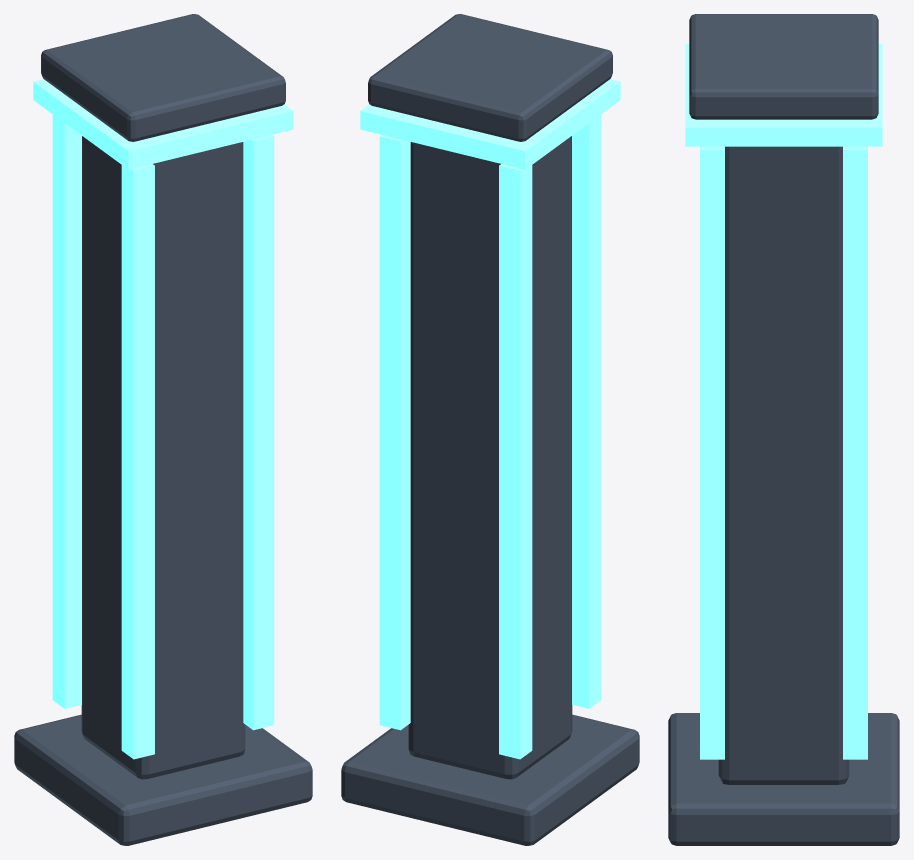
The model's file is pillar.glb.
The picture shows the model from 3 angles, left to right: view 1: azimuth 30°, elevation 25°; view 2: azimuth 150°, elevation 25°; view 3: azimuth 270°, elevation 25°; orthographic projection. The views are drawn at different scales.
Parts seen in each view (by area): view 1: column, base, cap, strip.001, strip.003, strip, cap_glow; view 2: column, base, cap, strip, strip.002, strip.001, cap_glow; view 3: column, cap, base, strip.002, strip.003, cap_glow.
Boxes of the visible parts, <box> form: column: <box>81,136,245,779</box>; base: <box>14,714,312,845</box>; cap: <box>41,14,285,141</box>; strip.001: <box>121,164,154,759</box>; strip.003: <box>243,135,274,730</box>; strip: <box>52,114,81,708</box>; cap_glow: <box>33,79,293,169</box>; column: <box>408,136,572,779</box>; base: <box>341,714,639,845</box>; cap: <box>368,14,612,141</box>; strip: <box>499,164,532,759</box>; strip.002: <box>379,135,410,730</box>; strip.001: <box>572,114,601,708</box>; cap_glow: <box>360,79,620,169</box>; column: <box>718,146,849,784</box>; cap: <box>689,14,878,119</box>; base: <box>668,713,899,845</box>; strip.002: <box>843,146,867,759</box>; strip.003: <box>700,146,724,759</box>; cap_glow: <box>685,44,882,146</box>.
Size of the model in its own units: 1.1 by 3.93 by 1.1.
